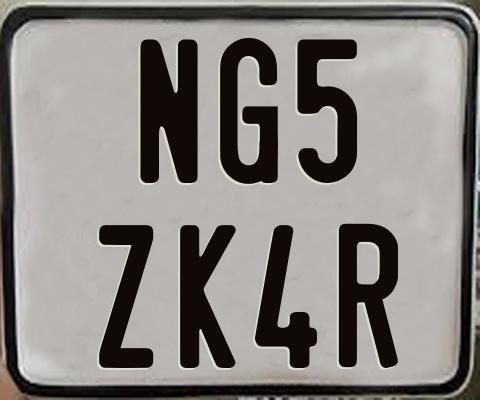4: (255, 224, 317, 372)
5: (297, 39, 357, 186)
G: (220, 38, 281, 184)
K: (180, 222, 240, 371)
N: (138, 36, 202, 184)
R: (337, 223, 397, 367)
Z: (97, 223, 157, 370)
